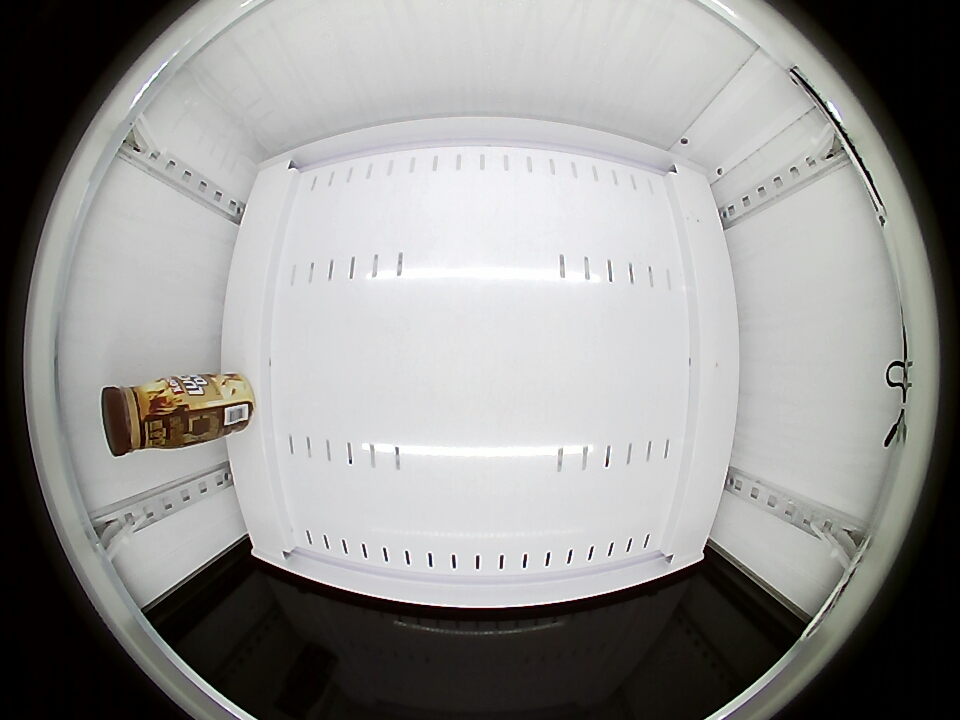lujikafei: (101, 378, 182, 457)
